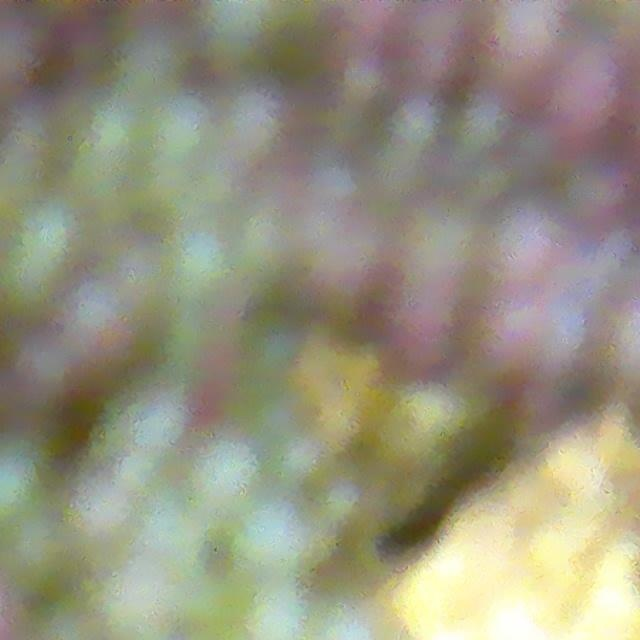SeaGrape: (473, 202, 572, 306), (484, 17, 563, 112), (478, 304, 561, 390), (232, 495, 309, 579), (2, 513, 79, 597), (542, 53, 611, 145), (376, 271, 449, 356), (388, 17, 465, 94), (167, 225, 240, 301), (231, 587, 317, 640), (193, 445, 258, 498)
